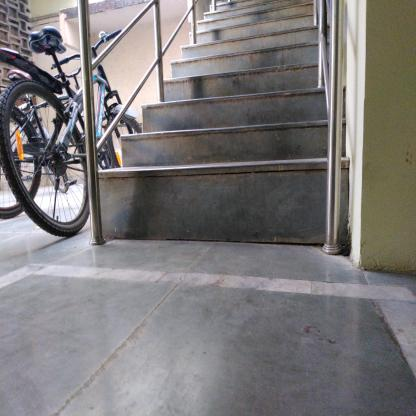stairs: (181, 45, 317, 261)
